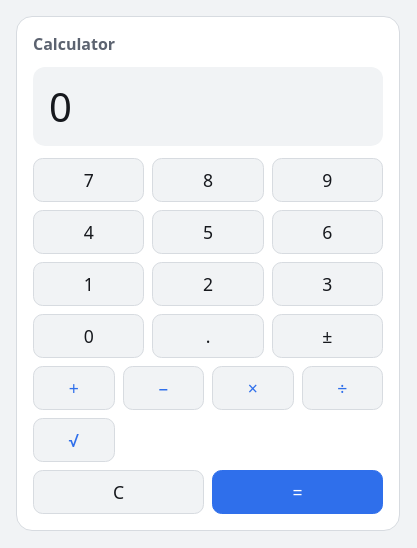
Test: the keypad › shows the digits that were pressed
Expected: the button named "add" is shown, [33,366,114,410]
Click the button "4". click: (89, 232)
box: [33,210,144,254]
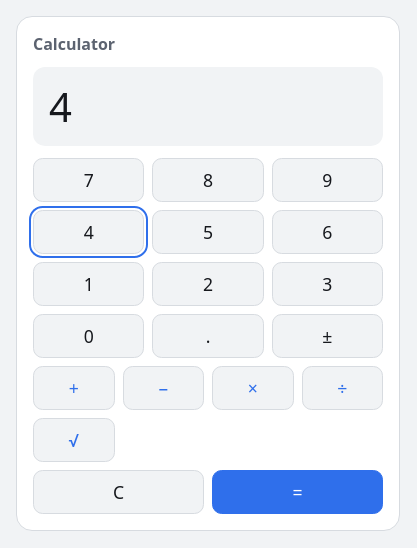
Click the button "2". click: (208, 284)
box: [152,262,264,306]
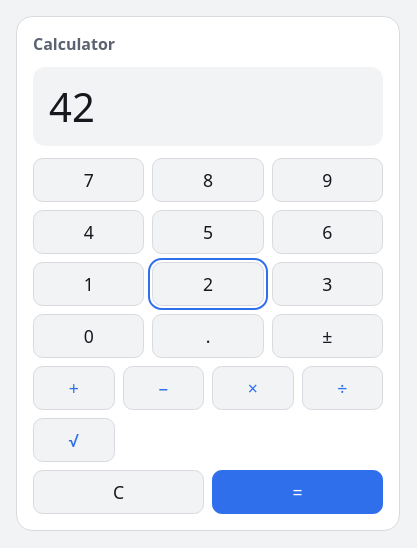
Expected: the message reads "42", [49,78,95,134]
